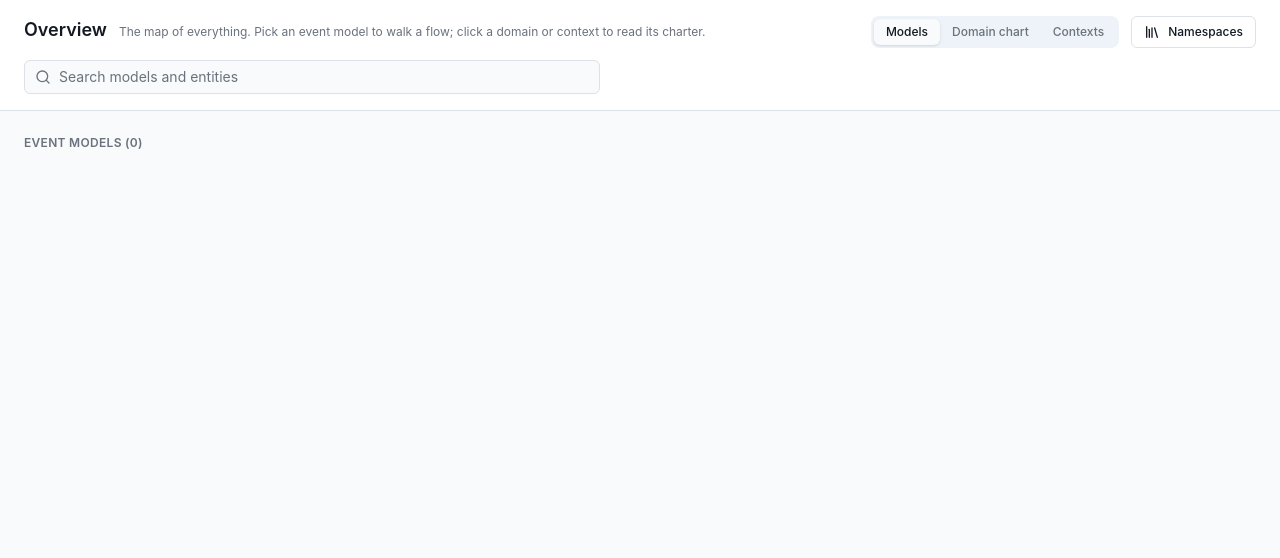
Test case: OverviewPage › search debounce › drops a failed search error as soon as the query moves on
Type "order" into the field with placeholder "Search models and entities" at (324, 77), box [59,67,589,87]
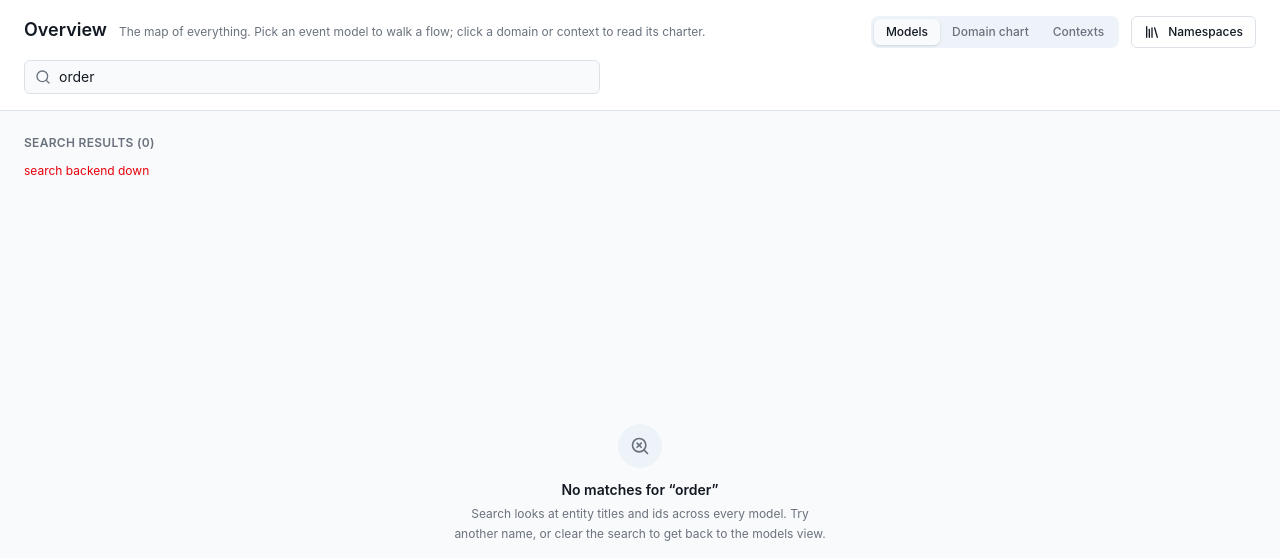
Now the message reads "search backend down", box [24,163,149,178]
Replace the text in the field with placeholder "Search models and entities" with "o" at (324, 77), box [59,67,589,87]
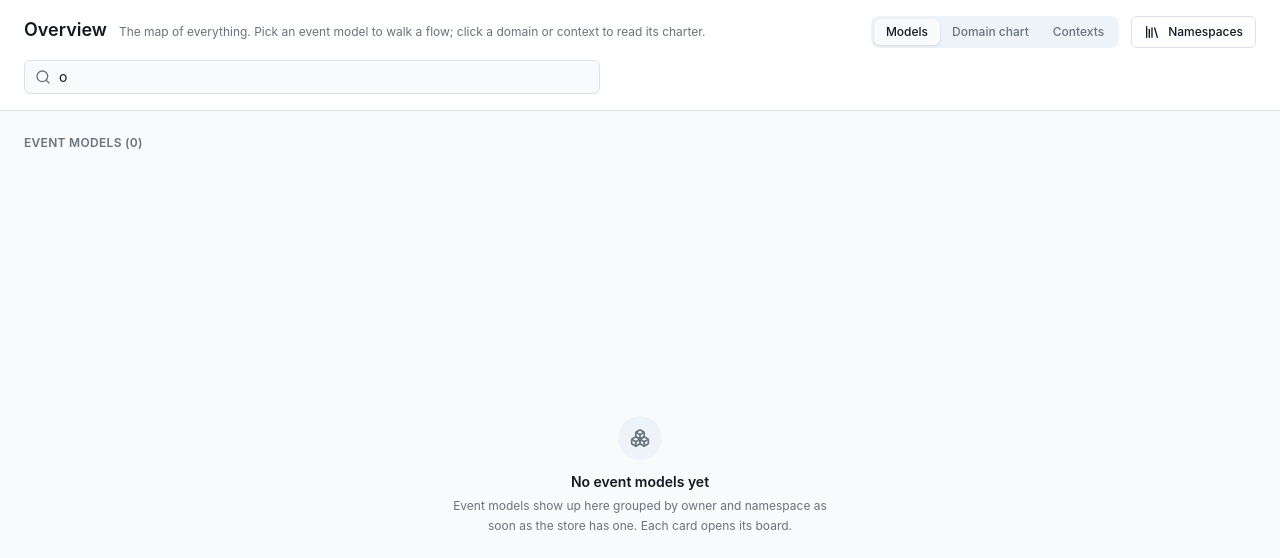
Replace the text in the field with placeholder "Search models and entities" with "orders" at (324, 77), box [59,67,589,87]
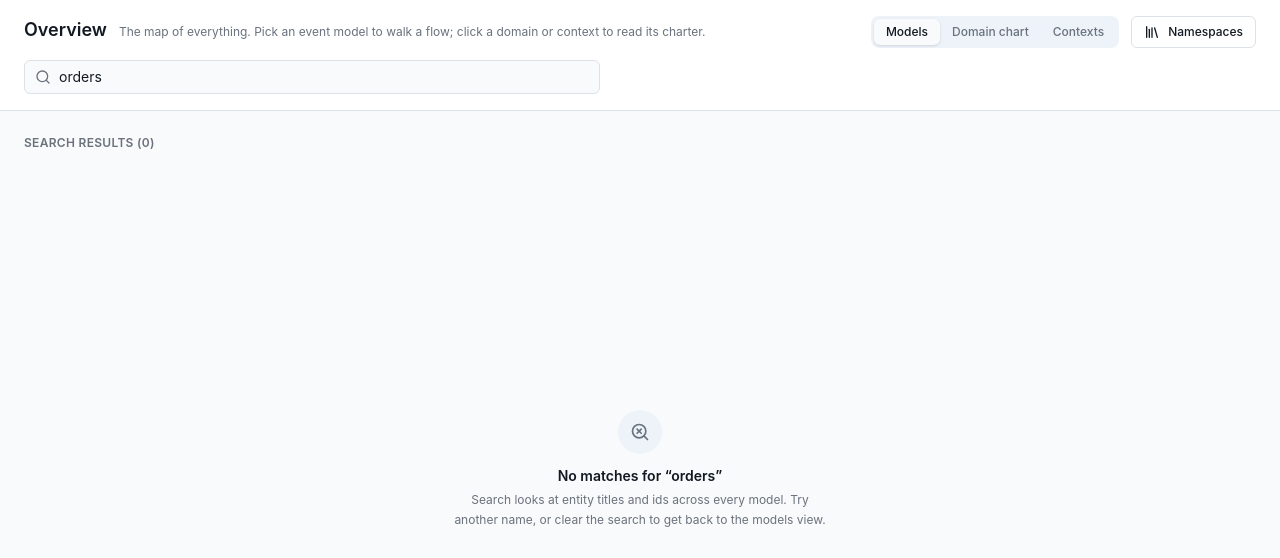
Expected: the message "search backend down" is not shown
Now the heading "Search Results (0)" is shown, box [24,135,155,150]
